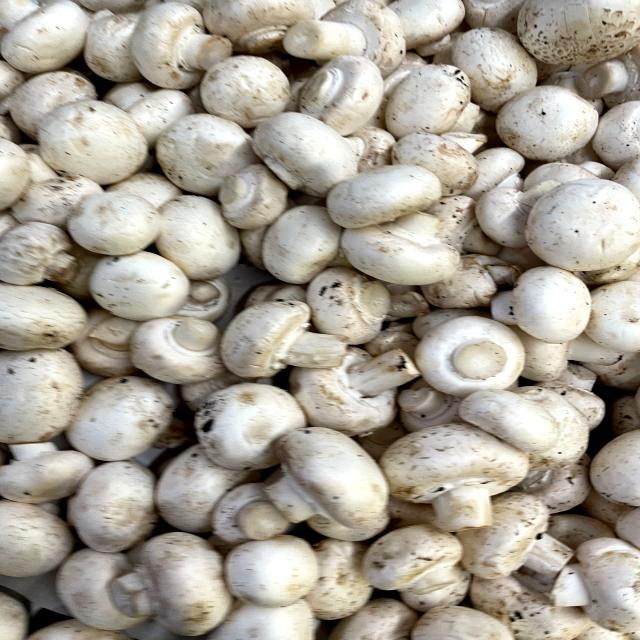mushroom: (380, 413, 528, 530), (253, 427, 407, 531), (213, 293, 355, 388), (336, 193, 475, 290), (124, 0, 243, 93), (275, 1, 416, 76), (476, 261, 601, 343), (284, 54, 404, 138), (416, 311, 525, 399), (124, 305, 239, 388)
